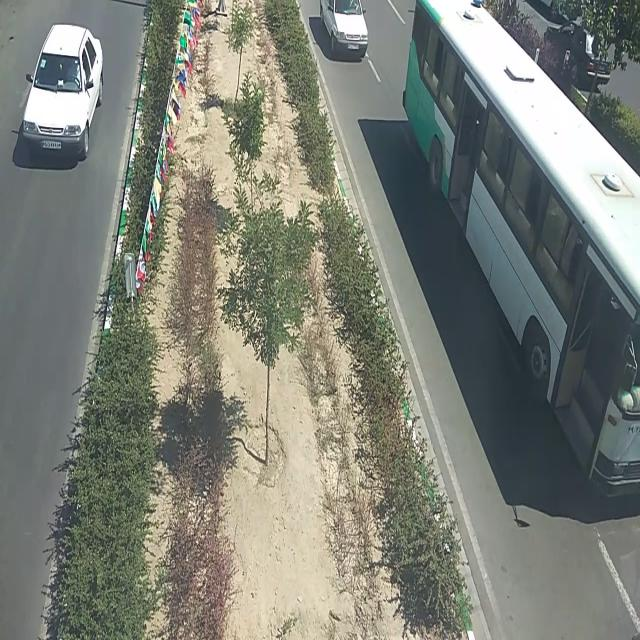bus: (403, 0, 640, 494)
car: (20, 27, 106, 161), (319, 0, 369, 52)
